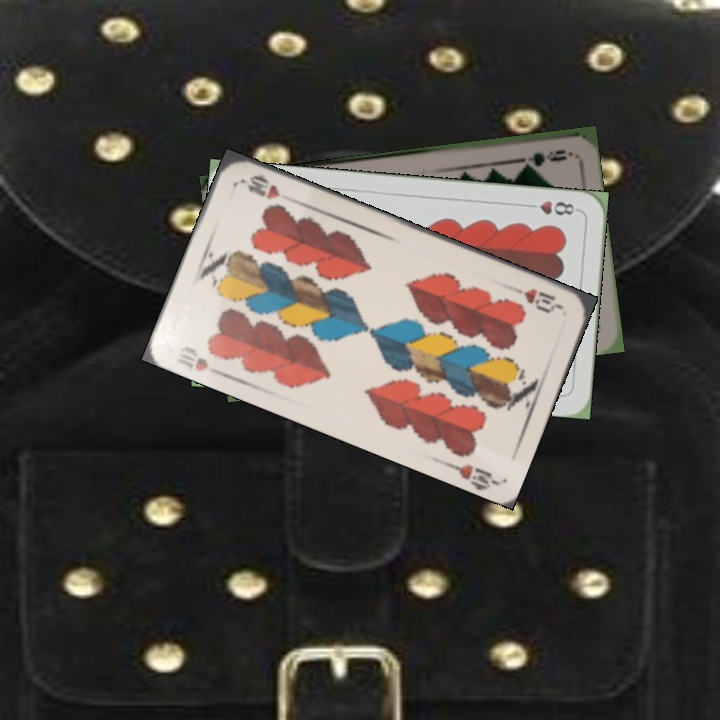G9: (514, 145, 573, 167)
H10: (172, 342, 226, 379), (509, 282, 566, 316)
H8: (522, 197, 581, 218)
